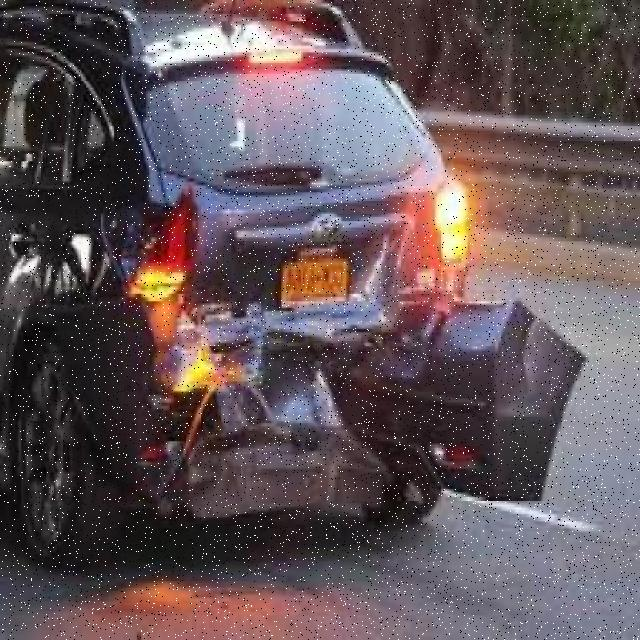damage: (89, 184, 585, 534)
